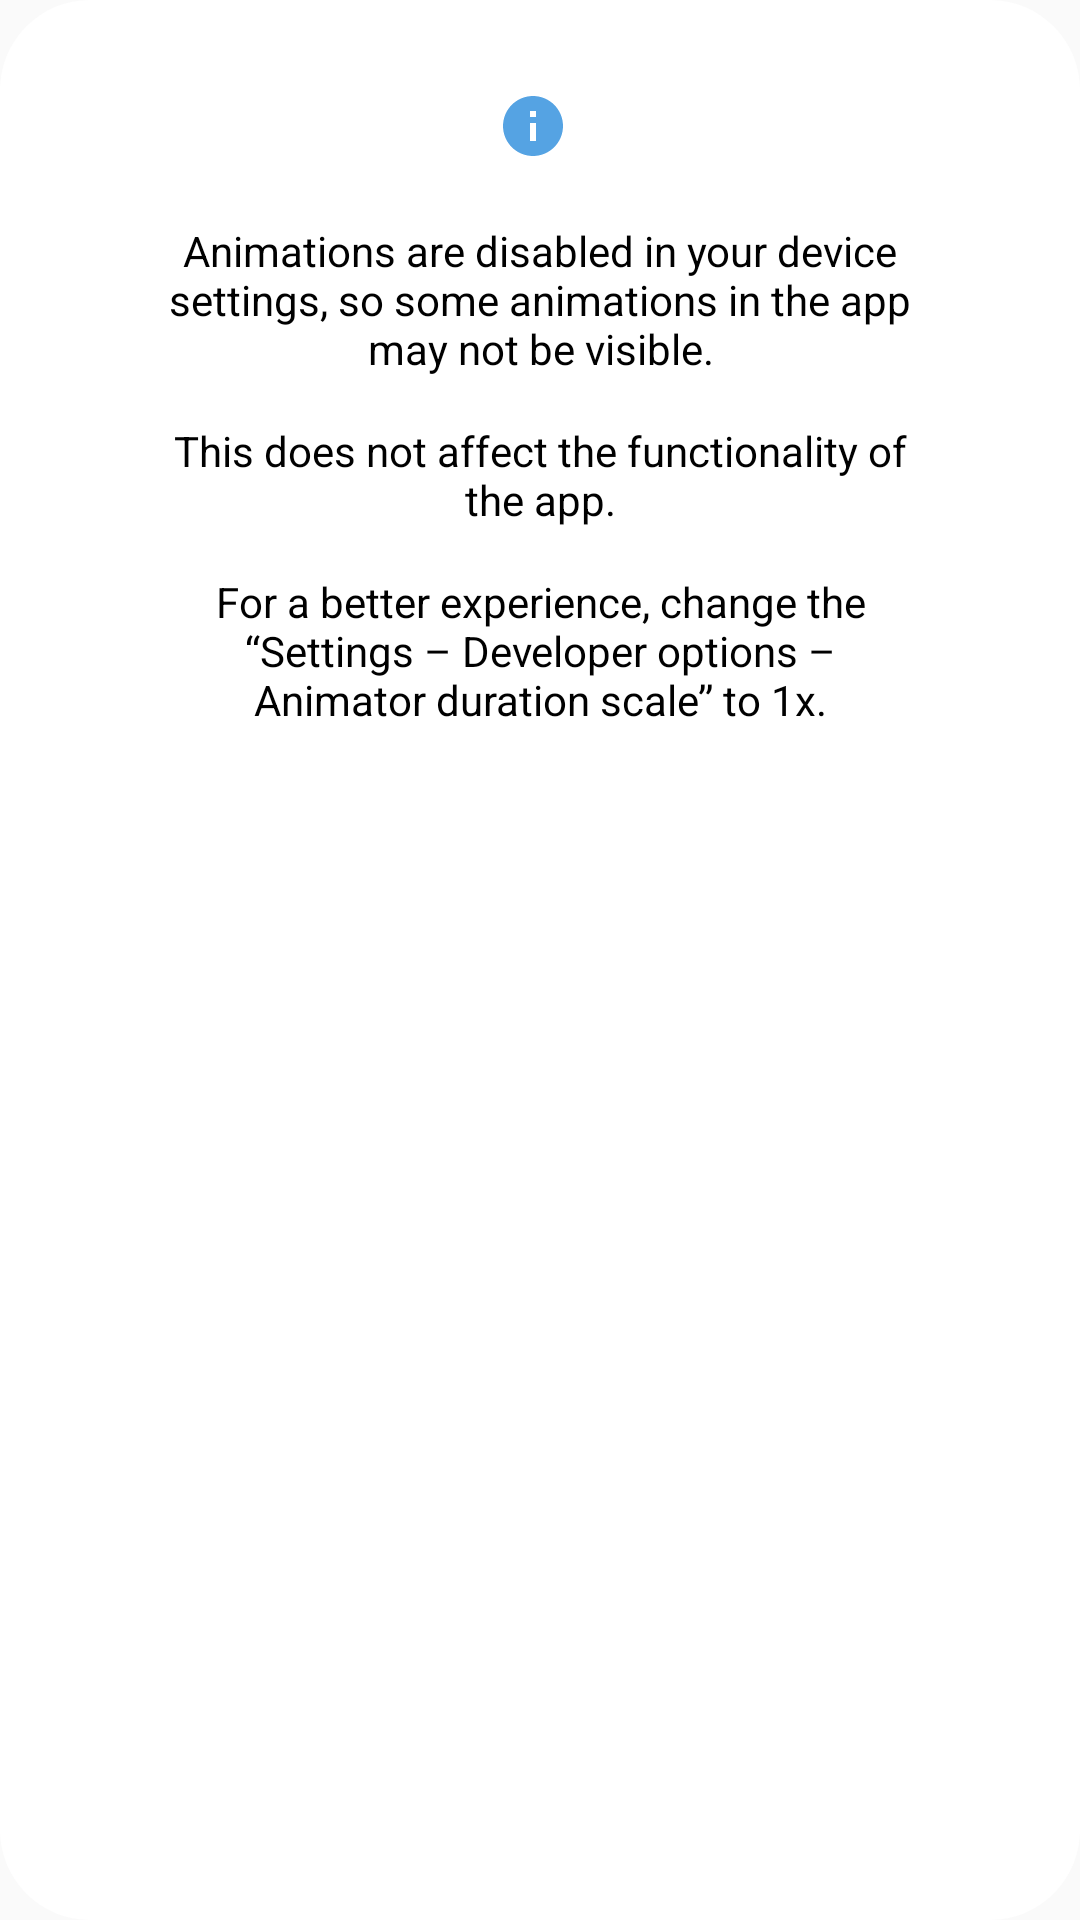

Where icons sit on this 1080*1920 app screen, as (x1, y1, x2, y2):
info: (503, 96, 563, 156)
